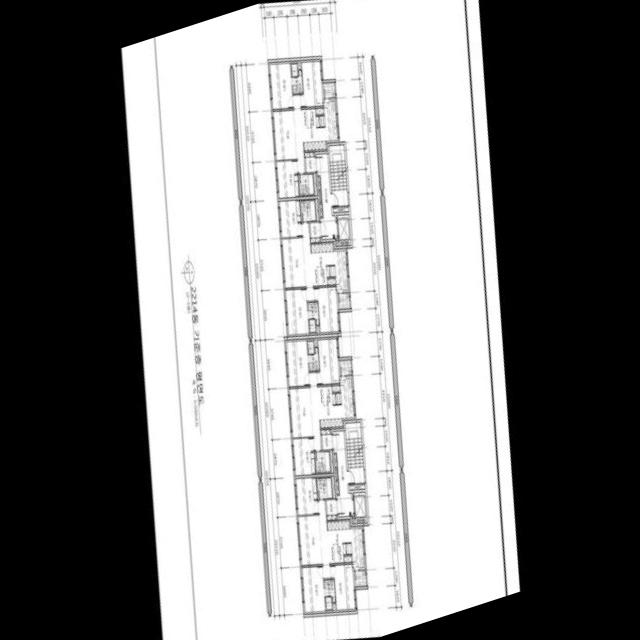background: (121, 0, 519, 640)
space_bedroom: (313, 287, 339, 334), (300, 566, 325, 614), (330, 564, 355, 612), (268, 61, 292, 109), (285, 338, 309, 386), (284, 289, 308, 337), (300, 59, 323, 107), (316, 336, 339, 384), (294, 477, 318, 515), (291, 438, 315, 475), (275, 160, 298, 198), (278, 200, 301, 237)
space_elevator: (352, 492, 367, 523), (336, 215, 350, 246)
space_elevator_hall: (332, 431, 364, 517), (315, 154, 347, 239)
space_front: (309, 222, 320, 243), (320, 429, 331, 450), (325, 499, 336, 520), (304, 152, 315, 172)
space_kitchen: (316, 376, 354, 429), (326, 519, 365, 570), (300, 99, 338, 151), (310, 242, 348, 292)
space_living_room: (288, 372, 321, 450), (272, 95, 304, 173), (281, 223, 313, 301), (297, 500, 329, 578)
space_other: (349, 484, 364, 490), (331, 476, 335, 498), (329, 451, 333, 473), (313, 173, 317, 195), (332, 207, 348, 212), (315, 198, 318, 221), (327, 278, 335, 285), (331, 385, 339, 391), (343, 556, 351, 562), (315, 108, 323, 114), (333, 454, 336, 467), (335, 481, 338, 494), (334, 468, 337, 480), (317, 177, 320, 189), (319, 204, 322, 216), (318, 191, 321, 202), (313, 338, 317, 345), (297, 60, 300, 68), (332, 604, 335, 612), (316, 327, 319, 335), (334, 240, 336, 246), (351, 518, 353, 523)
space_outdoor_room: (322, 82, 335, 98), (353, 571, 366, 586), (339, 359, 351, 375), (337, 293, 349, 309)
space_staircase: (344, 422, 363, 468), (328, 145, 346, 190)
space_toilet: (300, 200, 315, 221), (315, 451, 330, 472), (299, 174, 313, 195), (317, 477, 331, 498), (323, 580, 335, 602), (291, 70, 302, 93), (307, 302, 318, 325), (308, 348, 318, 371), (307, 341, 314, 354), (308, 319, 315, 332), (290, 64, 297, 77), (324, 597, 331, 609)
